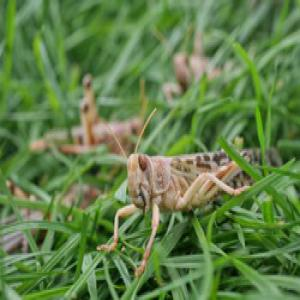locust: (102, 92, 293, 259)
